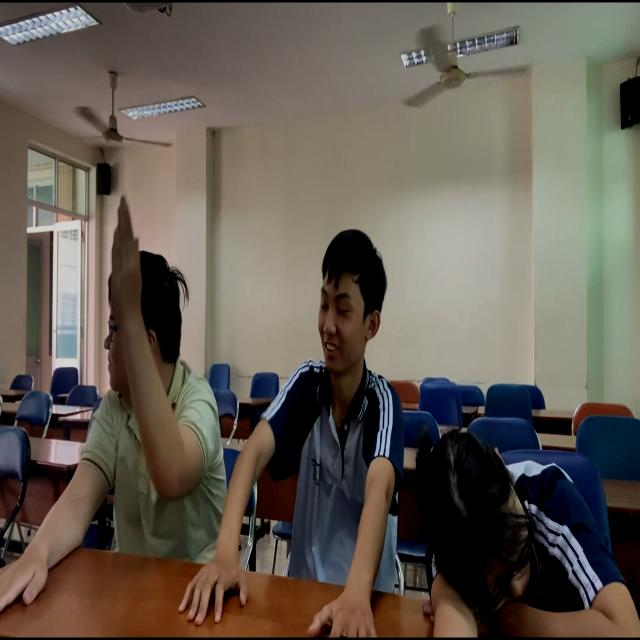raise_hand: (79, 186, 229, 582)
sleep: (397, 410, 640, 640)
